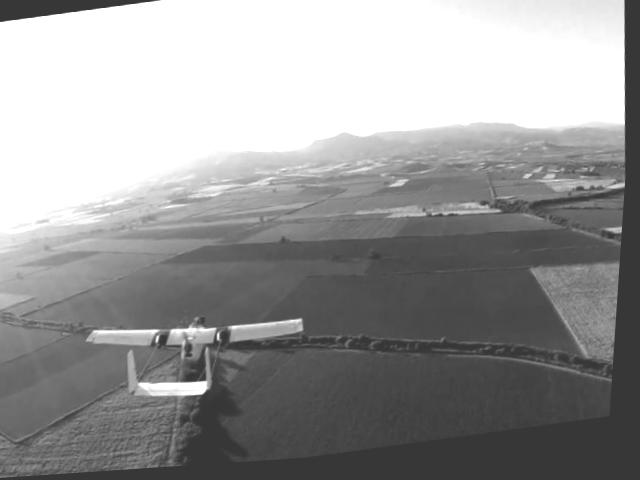hedef: (79, 291, 323, 429)
